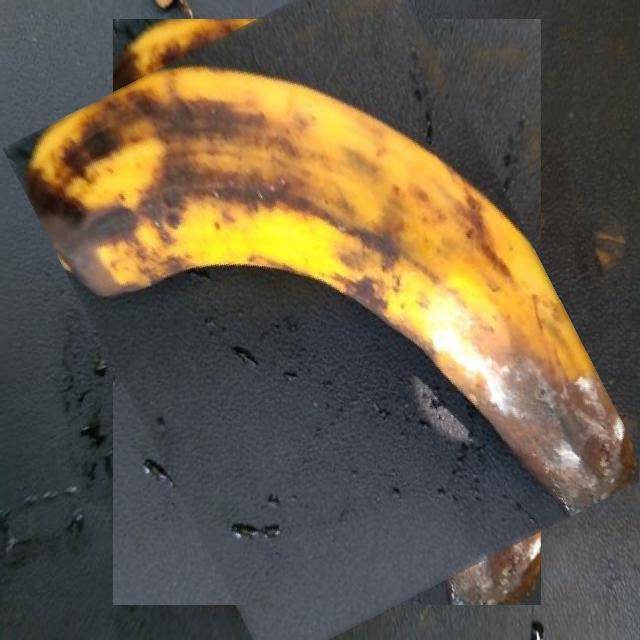Podre: (58, 0, 595, 637)
